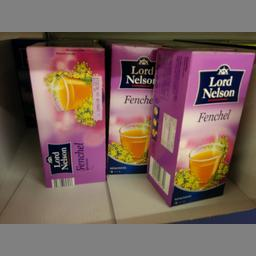tea: (144, 47, 251, 206), (22, 40, 108, 189), (106, 39, 156, 174)
